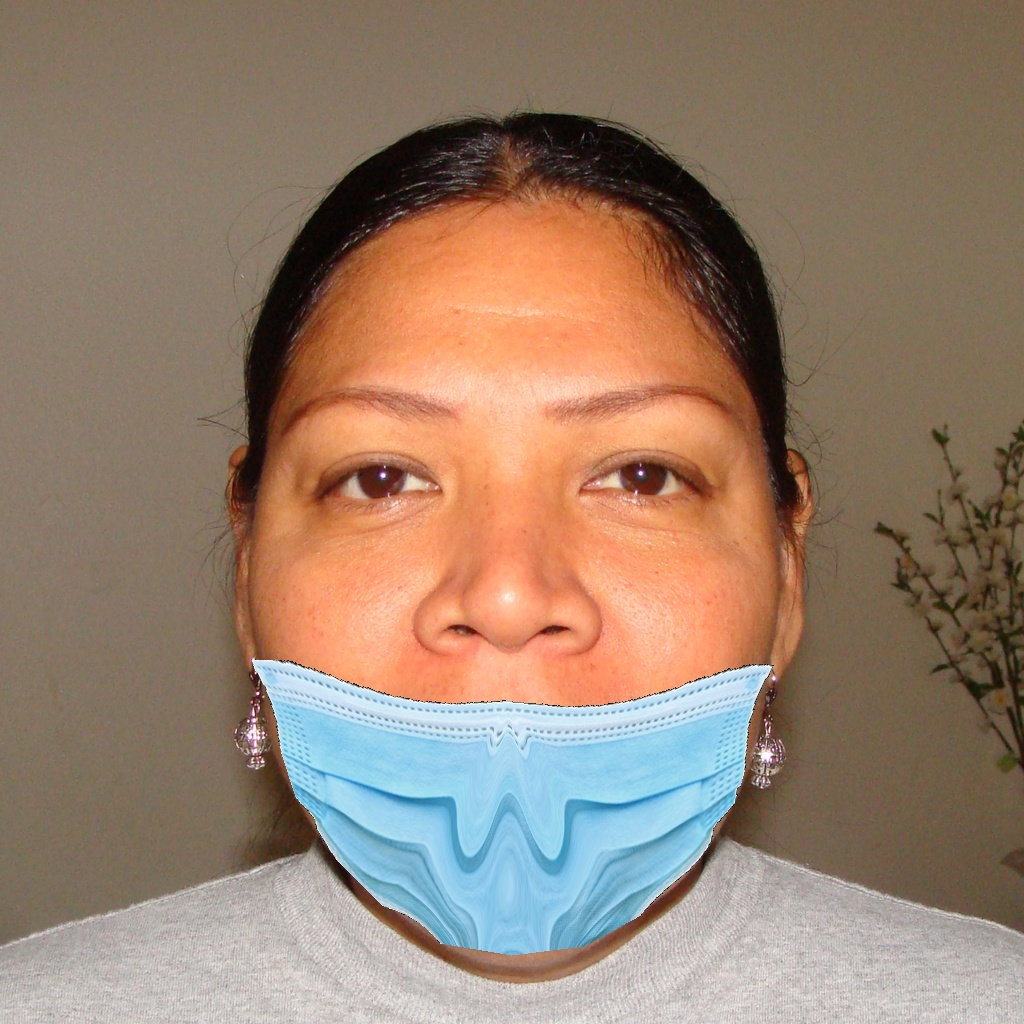mask_weared_incorrect: (255, 348, 777, 964)
